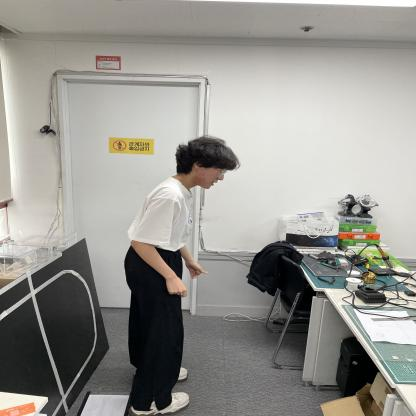normal: (127, 133, 237, 416)
